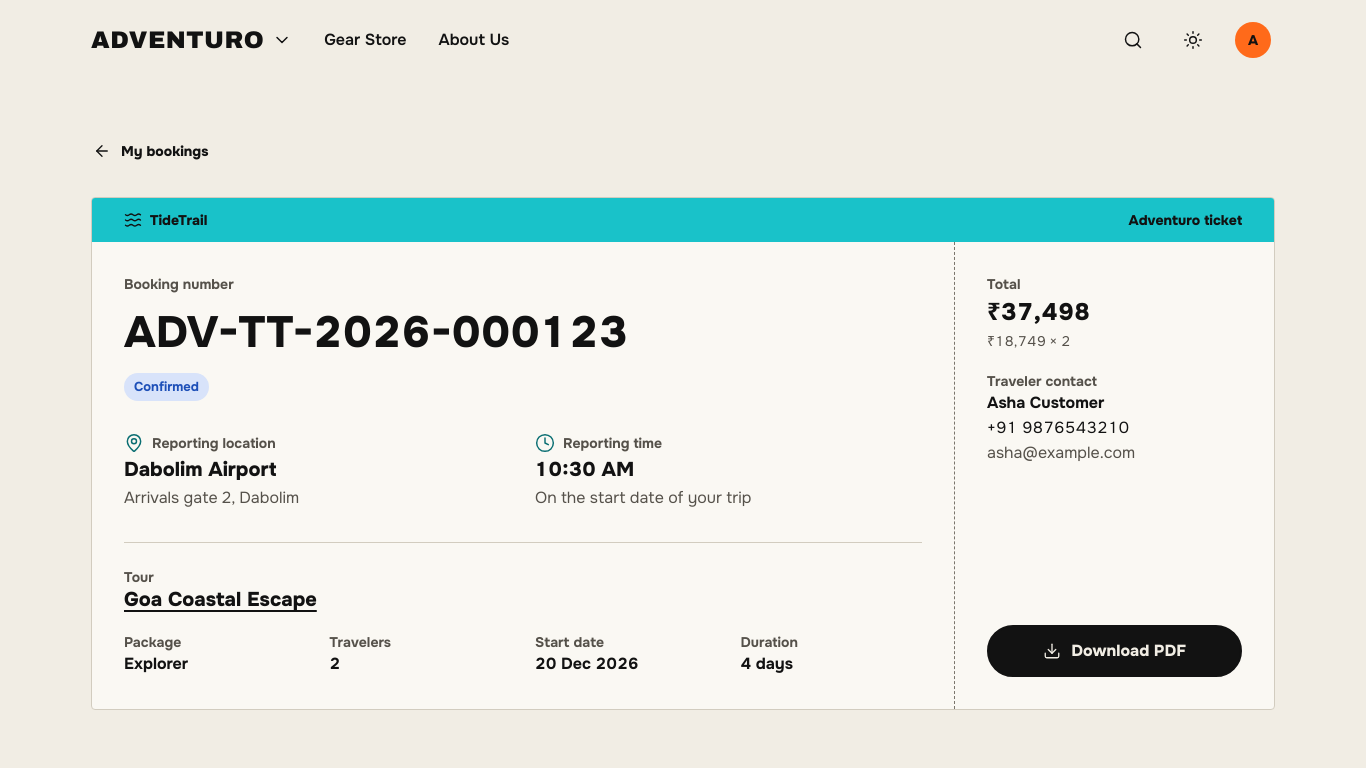
Test: TicketPage › Download PDF › says so beside the button when the download fails
This screenshot has width=1366, height=768.
Check: the heading "ADV-TT-2026-000123" is shown, box [124,306,628,361]
Click the button "Download PDF".
click(1114, 651)  # box [987,625,1242,677]
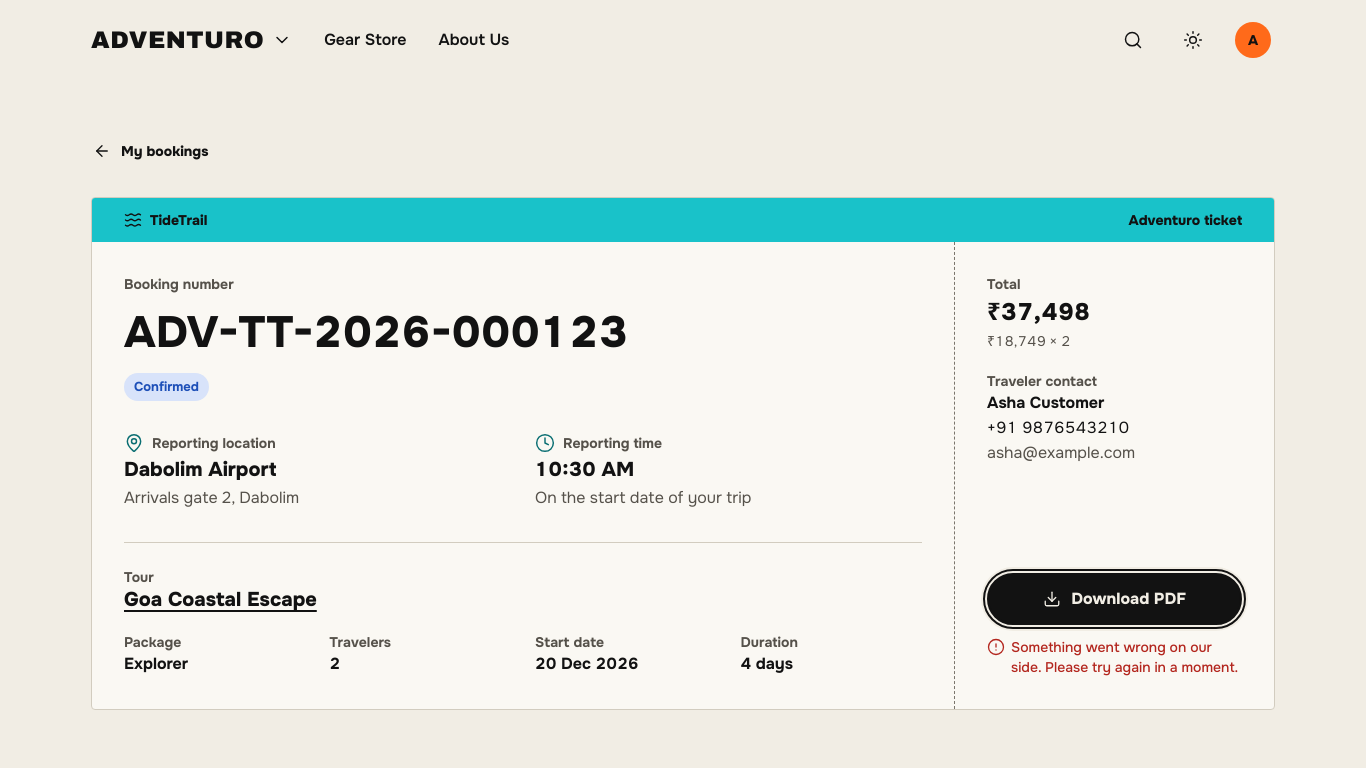
Check: the message reads "Something went wrong on our side. Please try again in a moment.", box [1011,638,1238,676]
